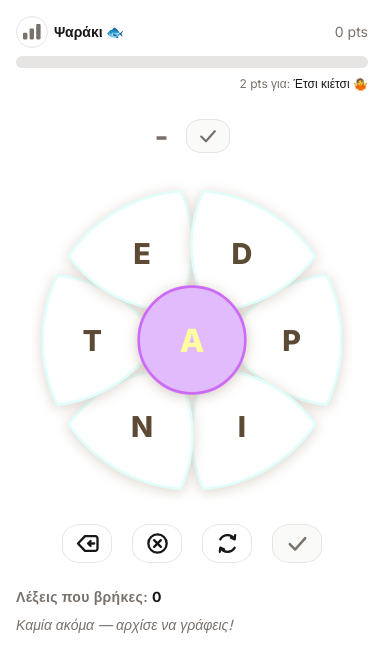
Test: Button interactions › Delete button removes the last typed letter
Type keys "pai"
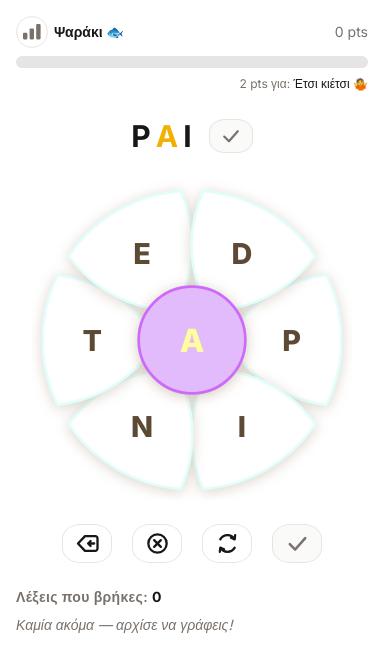
Click the button with test id "btn-delete": (87, 544) [62,524,112,563]
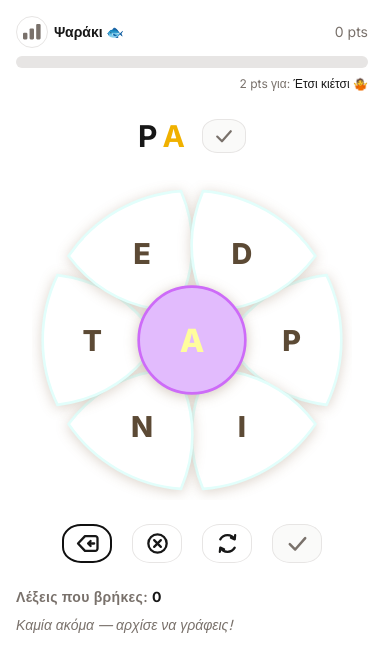
Now the number of elements with test id "word-input-letter" is 2, box [138,118,161,154]; [162,118,188,154]
